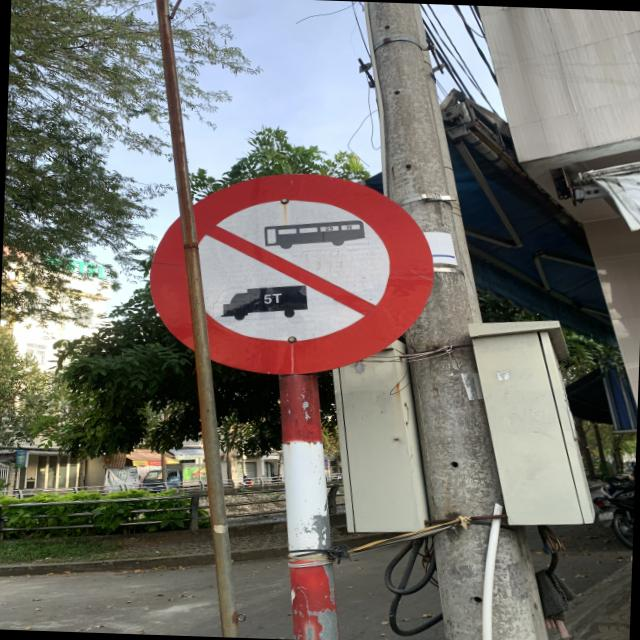Cam_XeTai_XeKhach: (149, 164, 436, 381)
